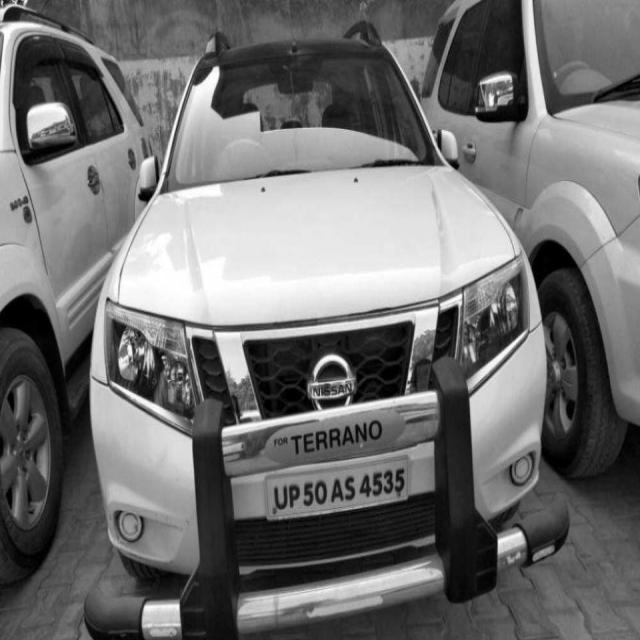car: (86, 25, 571, 640)
license-plate: (264, 452, 412, 529)
